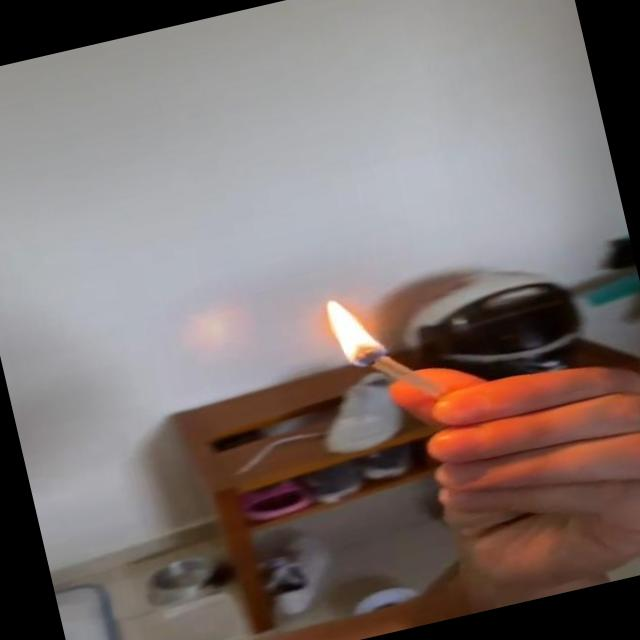Fire: (314, 280, 393, 378)
